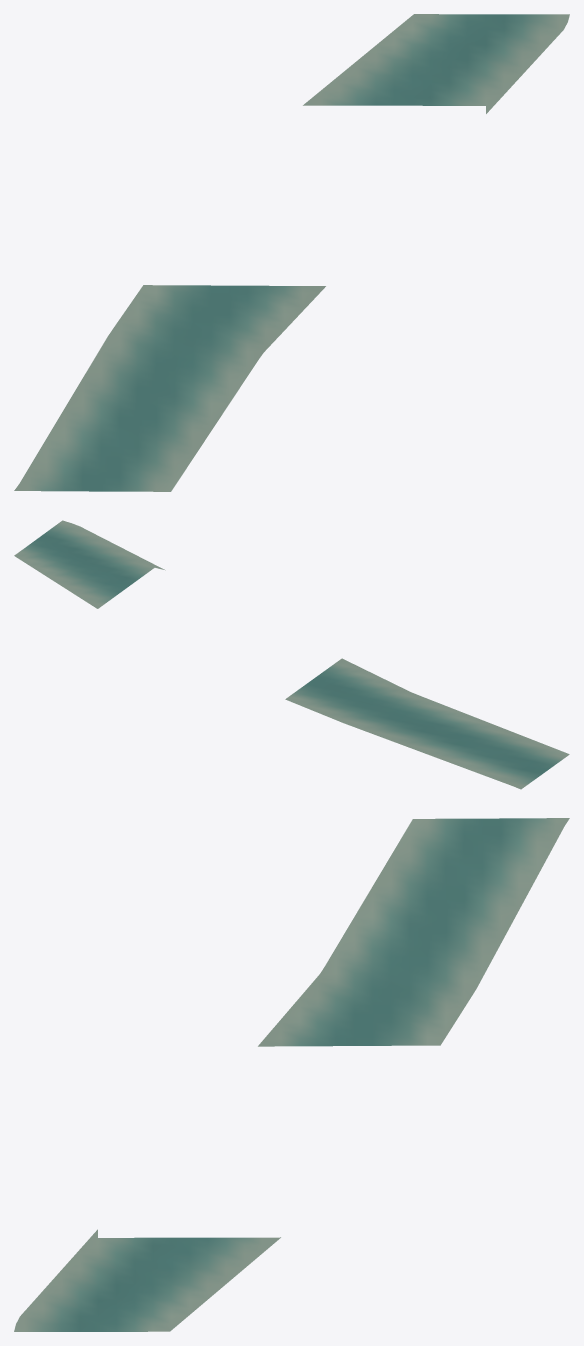
The model's file is SM_BM_BC_Water_1.glb.
3 views of the same model, one above another, from view 1: azimuth 90°, elevation 25°; view 2: azimuth 150°, elevation 25°; view 3: azimuth 270°, elevation 25° (orthographic). The views are drawn at different scales.
Parts seen in each view (by area): view 1: SM_BM_BC_Water_1; view 2: SM_BM_BC_Water_1; view 3: SM_BM_BC_Water_1.
Boxes of the visible parts, left/top/right/bottom form: SM_BM_BC_Water_1: left=14, top=14, right=569, bottom=491; SM_BM_BC_Water_1: left=14, top=520, right=569, bottom=789; SM_BM_BC_Water_1: left=14, top=818, right=569, bottom=1331.
Bounding box in the file's own units: 256 × 4.49 × 121.
